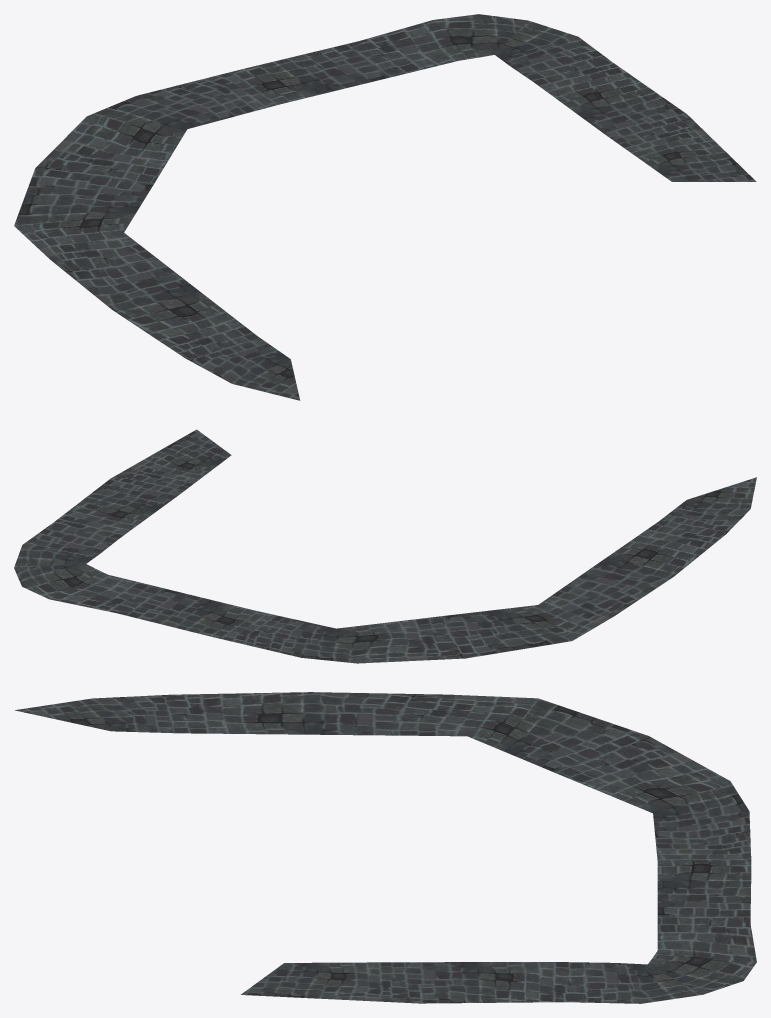
File: blend_brick02.fbx
3 renders of one model, top to bottom at view 1: azimuth 30°, elevation 25°; view 2: azimuth 150°, elevation 25°; view 3: azimuth 270°, elevation 25°, orthographic. The views are drawn at different scales.
Parts seen in each view (by area): view 1: new_stone/brick_blend_shadow; view 2: new_stone/brick_blend_shadow; view 3: new_stone/brick_blend_shadow.
Part boxes in pixels (x1,y1,x2,y2): new_stone/brick_blend_shadow: (14, 14, 756, 400); new_stone/brick_blend_shadow: (14, 429, 756, 663); new_stone/brick_blend_shadow: (15, 692, 756, 1003).
Size of the model in its own units: 16.51 by 0.0958 by 16.44.
